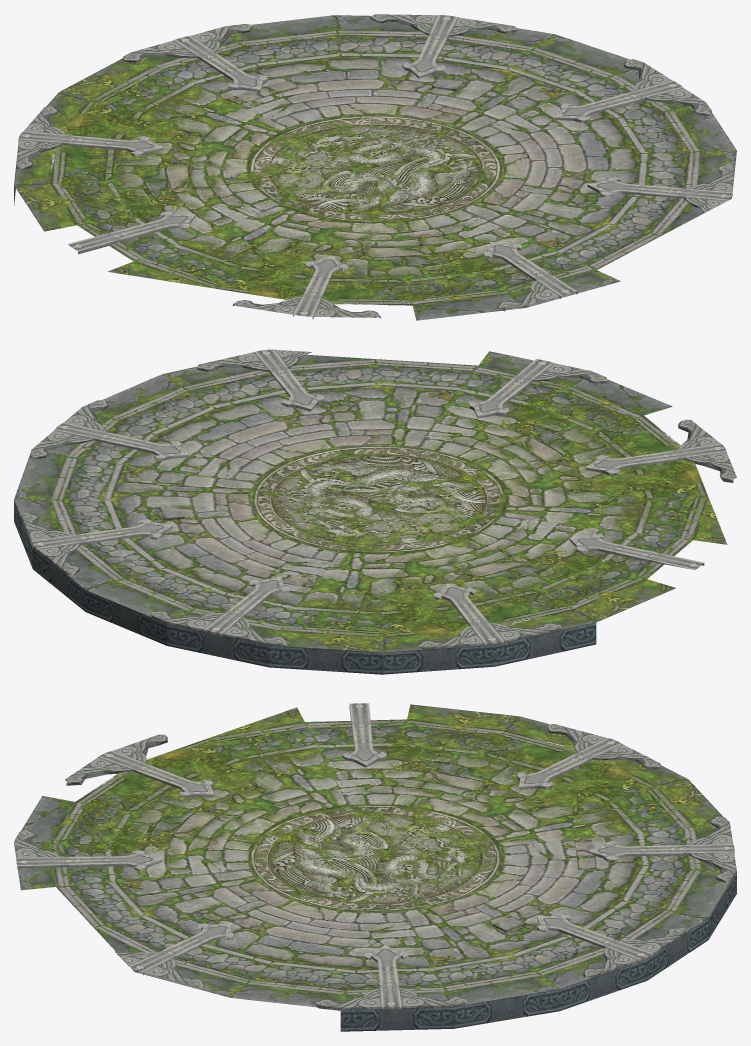
File: S2_Build_XSC001_H1.FBX
3 views of the same model, one above another, from view 1: azimuth 30°, elevation 25°; view 2: azimuth 150°, elevation 25°; view 3: azimuth 270°, elevation 25° (orthographic).
Parts seen in each view (by area): view 1: S2_Build_XSC001_H1; view 2: S2_Build_XSC001_H1; view 3: S2_Build_XSC001_H1.
Part boxes in pixels (<box>): S2_Build_XSC001_H1: <box>14,14,736,320</box>; S2_Build_XSC001_H1: <box>14,349,736,674</box>; S2_Build_XSC001_H1: <box>14,703,736,1031</box>.
Size of the model in its own units: 2540 by 92.65 by 2540.
